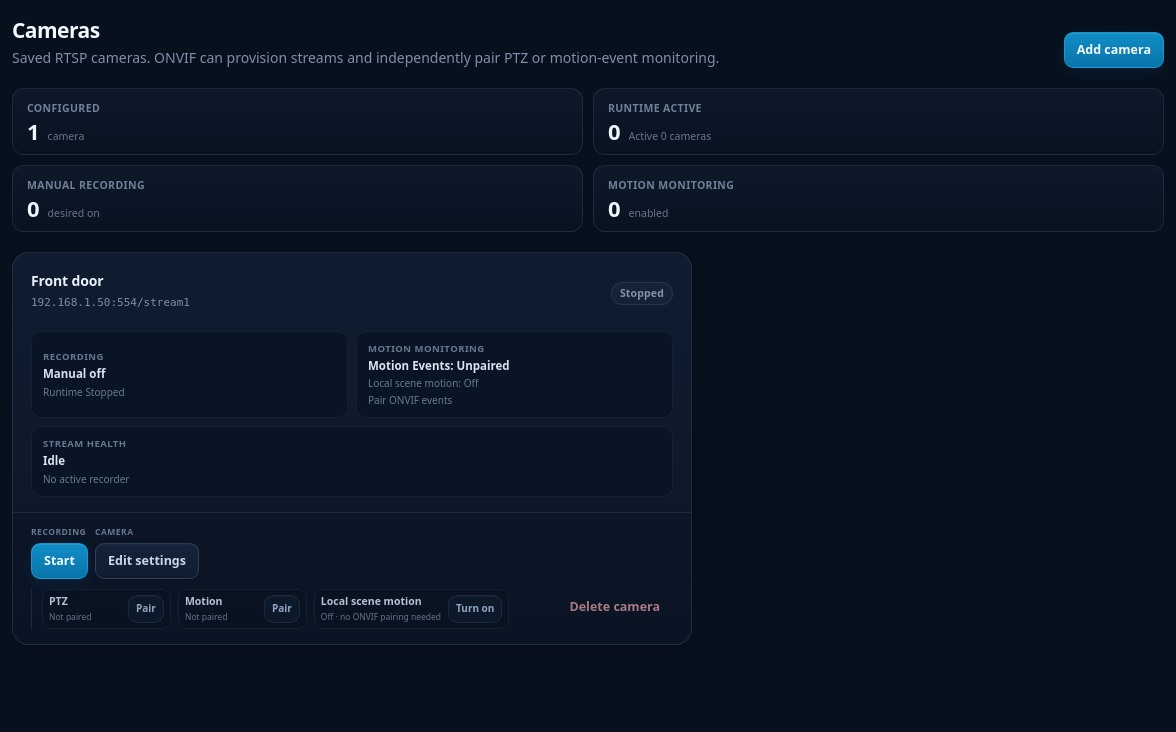
Test: CamerasScreen › ignores an old diagnostics poll that resolves after Local Motion is enabled
What coordinates should you click on to do the following:
click the button with aria-label "Enable Local Motion"
I would click on:
 (475, 609)
Its box is 448,595 -> 502,623.
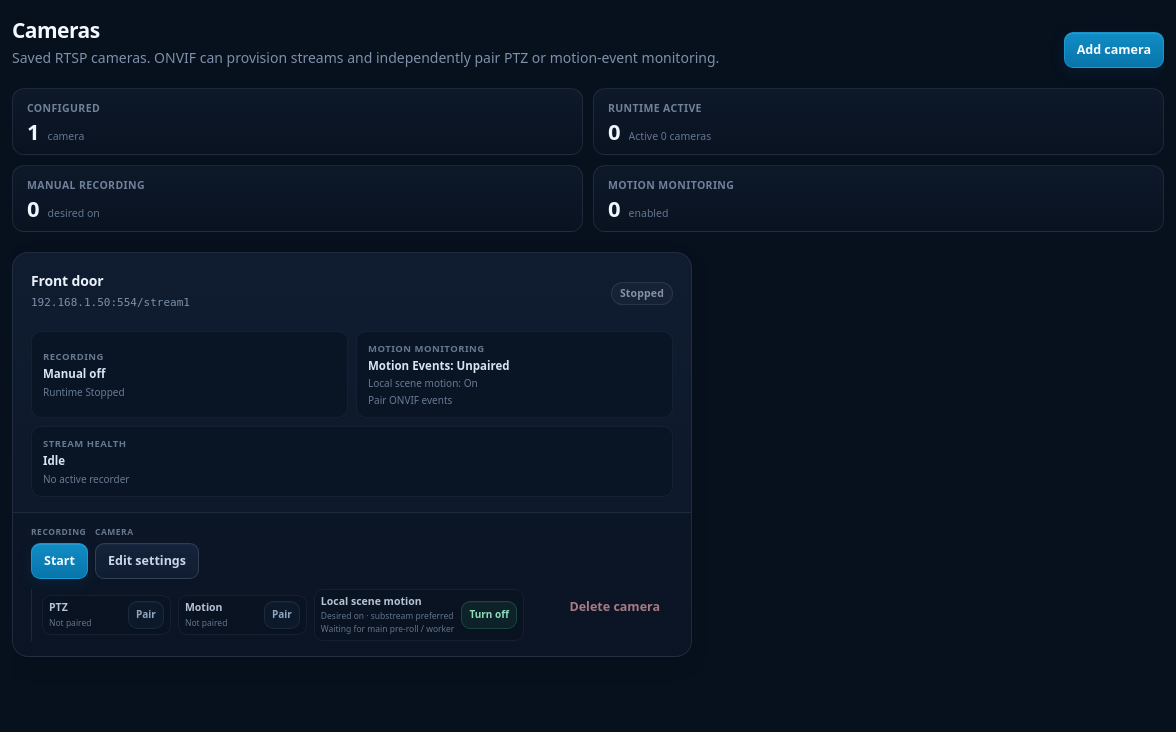
Check: the button with aria-label "Disable Local Motion" is shown, box 461,601 -> 517,629
Check: the text "Local scene motion: On" is shown, box 368,376 -> 478,390
